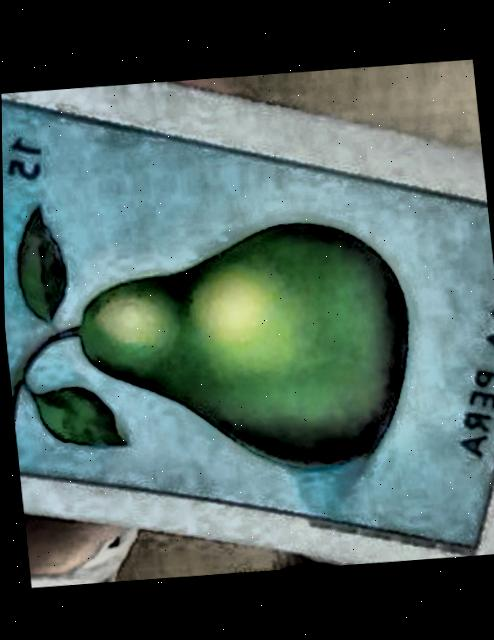La Pera: (1, 102, 494, 547)
